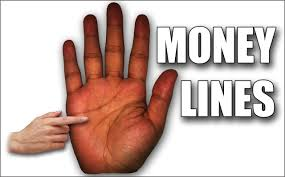palm: (72, 85, 146, 157)
